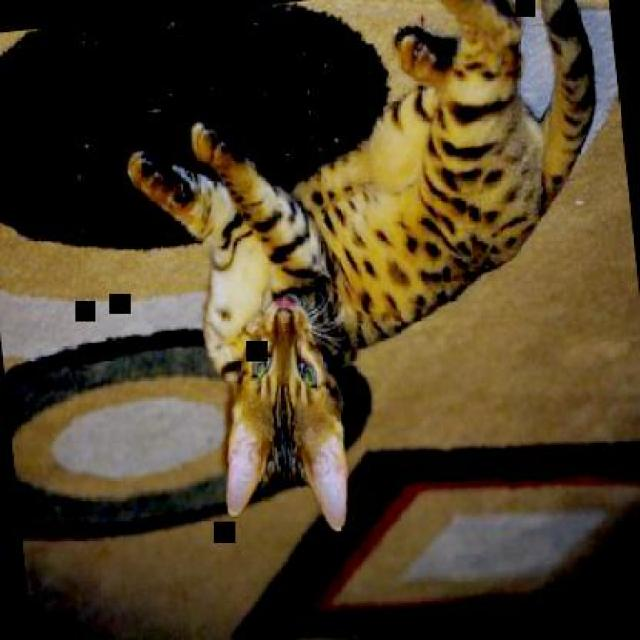cat: (107, 0, 638, 554)
